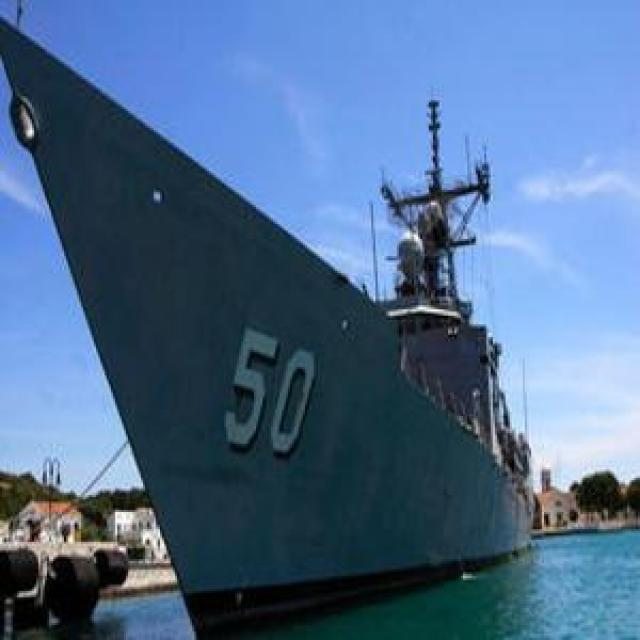navalvessels: (0, 11, 545, 633)
